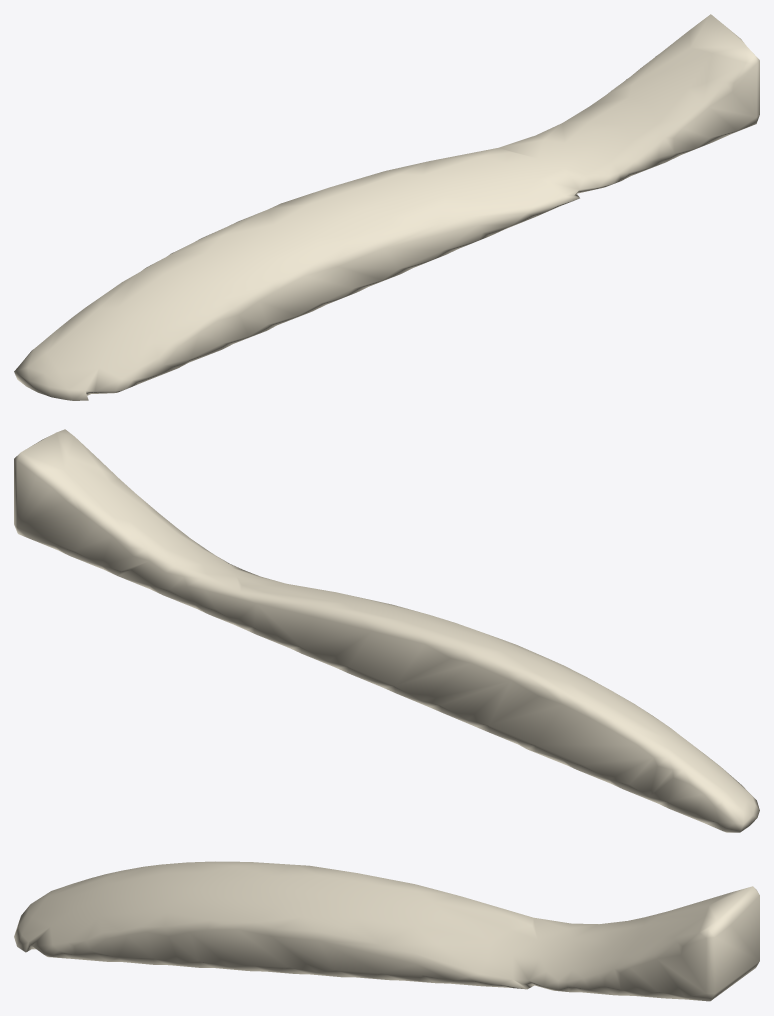
The model's file is nasal_l.glb.
3 renders of one model, top to bottom at view 1: azimuth 30°, elevation 25°; view 2: azimuth 150°, elevation 25°; view 3: azimuth 330°, elevation 25°, orthographic. The views are drawn at different scales.
Parts seen in each view (by area): view 1: geometry_0; view 2: geometry_0; view 3: geometry_0.
Part boxes in pixels (x1,y1,x2,y2): geometry_0: [14, 14, 759, 400]; geometry_0: [14, 429, 759, 832]; geometry_0: [14, 861, 759, 1001].
Bounding box in the file's own units: 0.3738 × 0.1017 × 0.0452.
